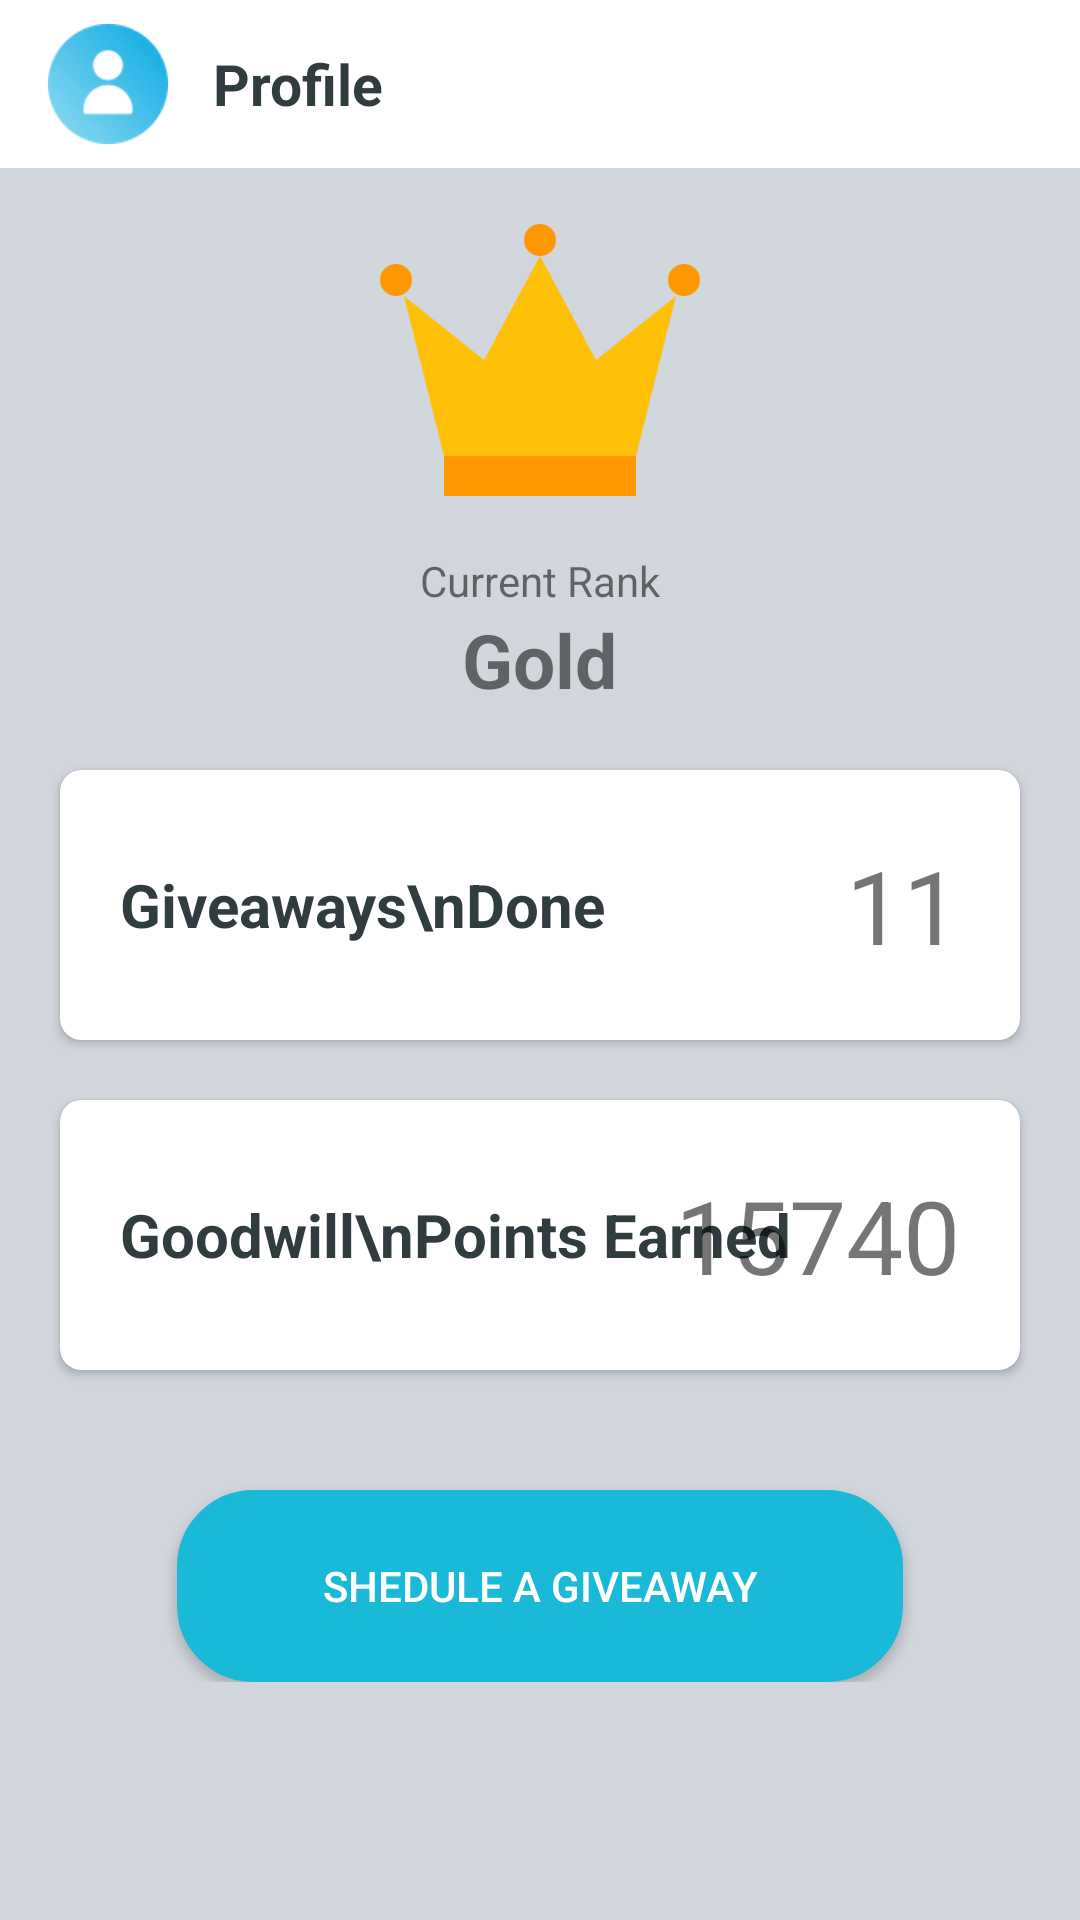

Screen size 1080 × 1920. Icon name, then its center in pixels as point (x, y):
crown: point (540, 360)
